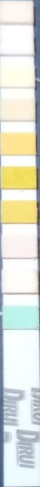color 1: (1, 3, 31, 22)
color 10: (3, 308, 38, 328)
color 2: (2, 36, 33, 54)
color 3: (2, 68, 33, 86)
color 4: (1, 100, 33, 119)
color 5: (1, 134, 34, 154)
color 6: (1, 168, 35, 187)
color 7: (1, 202, 36, 222)
color 8: (2, 238, 36, 256)
color 9: (2, 272, 37, 292)
